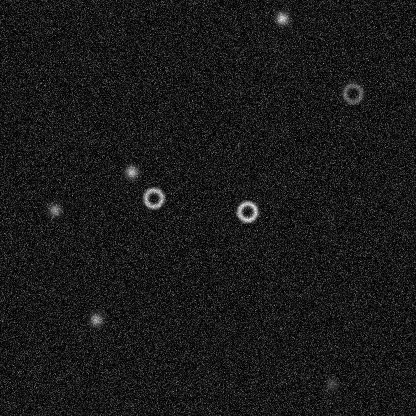Ring: (235, 199, 259, 223), (141, 186, 165, 210), (340, 81, 364, 105)
Spot: (46, 202, 62, 218), (274, 10, 290, 26), (323, 375, 339, 391), (123, 163, 139, 179), (88, 311, 104, 327)
